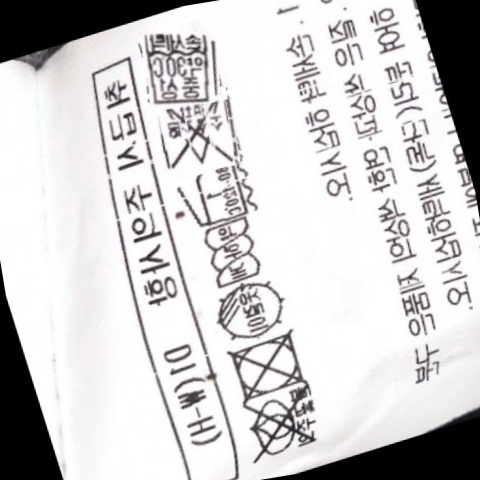DN_tumble_dry: (222, 327, 315, 403)
hand_wash: (136, 27, 224, 108)
iron_low: (178, 161, 254, 230)
line_dry_in_shade: (207, 276, 294, 344)
wring: (201, 216, 266, 290)
